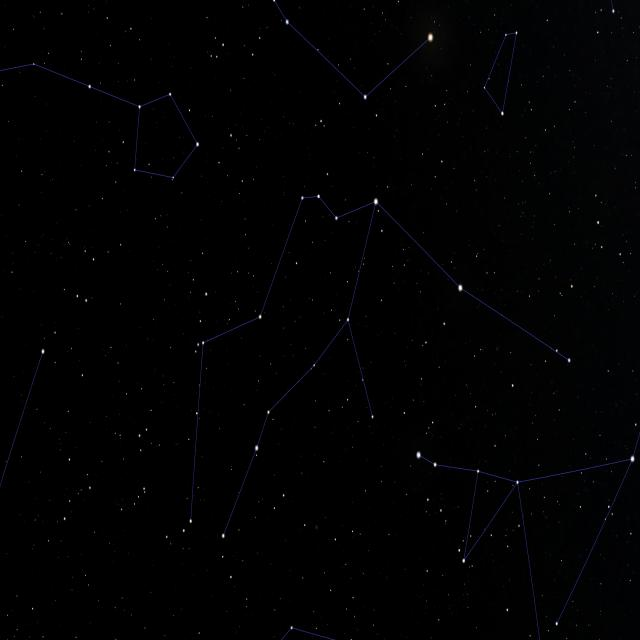Aquarius: (184, 187, 576, 543)
